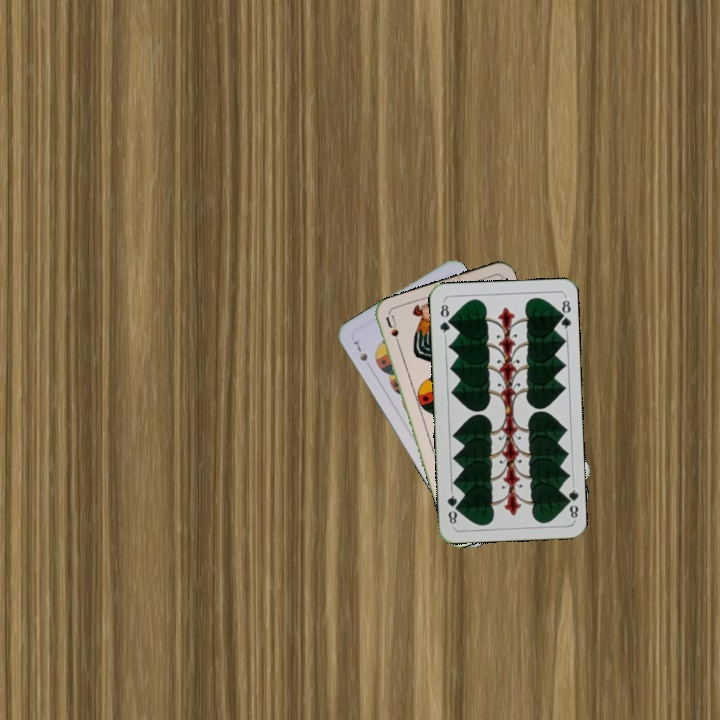G8: (561, 482, 581, 522), (435, 298, 453, 338)
S7: (350, 337, 370, 364)
SU: (382, 312, 404, 352)
